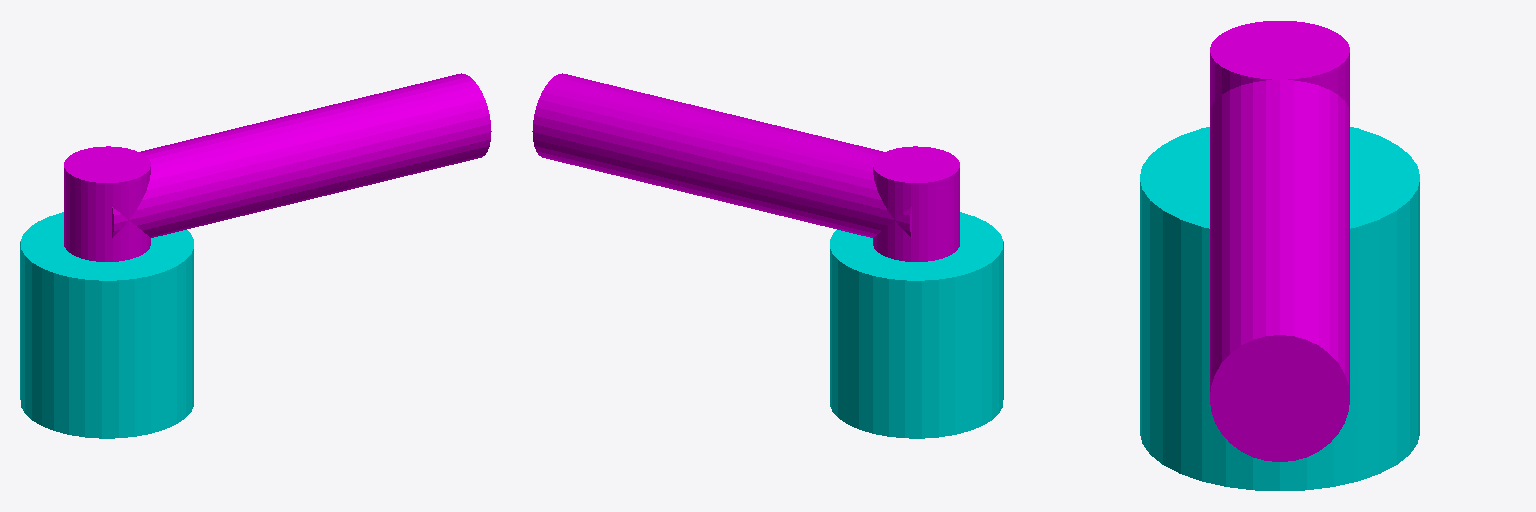
The robot description file, URDF, robot "wrench":
<?xml version="1.0" ?>

<robot name="wrench">
<link name="base">
    <inertial>
      <origin rpy="0 0 0" xyz="0 0 0.0"/>
      <mass value="1.0"/>
      <inertia ixx="1.0" ixy="0.0" ixz="0.0" iyy="1.0" iyz="0.0" izz="1.0"/>
    </inertial>
    <visual>
        <geometry>
            <cylinder radius="0.05" length="0.1"/>
        </geometry>
        <material name="Cyan1">
	 	<color rgba="0 0.9 0.9 1.0"/>
	</material>
    </visual>
    <collision>
        <geometry>
            <cylinder radius="0.05" length="0.1"/>
        </geometry>
    </collision>
</link>

<link name="shaft">
    <inertial>
      <origin rpy="0 0 0" xyz="0 0 0.0"/>
      <mass value="1.0"/>
      <inertia ixx="1.0" ixy="0.0" ixz="0.0" iyy="1.0" iyz="0.0" izz="1.0"/>
    </inertial>
    <visual>
        <geometry>
            <cylinder radius="0.025" length="0.05"/>
        </geometry>
         <material name="Purple1">
	 	<color rgba="0.9 0. 0.9 1.0"/>
	    </material>
    </visual>

</link>

<link name="crank">
    <inertial>
      <origin rpy="0 0 0" xyz="0 0 0.0"/>
      <mass value="1.0"/>
      <inertia ixx="1.0" ixy="0.0" ixz="0.0" iyy="1.0" iyz="0.0" izz="1.0"/>
    </inertial>
    <visual>
        <geometry>
            <cylinder radius="0.025" length="0.25"/>
        </geometry>
            <material name="Purple1">
	 	<color rgba="0.9 0. 0.9 1.0"/>
	    </material>
    </visual>
    <collision>
        <geometry>
            <cylinder radius="0.025" length="0.25"/>
        </geometry>
    </collision>
</link>

<joint name="base_shaft" type="revolute">
    <parent link="base"/>
    <child link="shaft"/>
    <origin rpy="0 0 0" xyz="0 0 0.0751"/>
    <axis xyz="0 0 1"/>
    <limit effort="100" 
           lower="-100" 
           upper="100" 
           velocity="2"/>
	<dynamics damping="0" friction="100" />
</joint>

<joint name="shaft_crank" type="fixed">
    <parent link="shaft"/>
    <child link="crank"/>
    <origin rpy="0 1.57079632679 0" xyz="0.115 0 0.0"/>
    <axis xyz="0 0 1"/>
</joint> 	
 
</robot>

--- What the picture shows (computed from the rendered views, not written in the file) ---
Views: 3 orthographic renders of the robot side by side, from view 1: azimuth 30°, elevation 25°; view 2: azimuth 150°, elevation 25°; view 3: azimuth 270°, elevation 25°.
Model wrench with 3 links and 2 joints (1 revolute, 1 fixed), rooted at base, posed all joints at 0.
Links seen in each view (by area): view 1: base, crank, shaft; view 2: base, crank, shaft; view 3: base, crank, shaft.
Link boxes in pixels (<box>): base: <box>20,212,193,438</box>; crank: <box>112,73,491,237</box>; shaft: <box>64,146,150,261</box>; base: <box>830,212,1003,438</box>; crank: <box>532,73,911,237</box>; shaft: <box>873,146,959,261</box>; base: <box>1140,127,1419,490</box>; crank: <box>1210,80,1349,461</box>; shaft: <box>1210,21,1349,109</box>.
Bounding box of the posed robot: 0.29 × 0.1 × 0.1501 m (x, y, z).
Geometry: primitives only (box / cylinder / sphere), no mesh files.